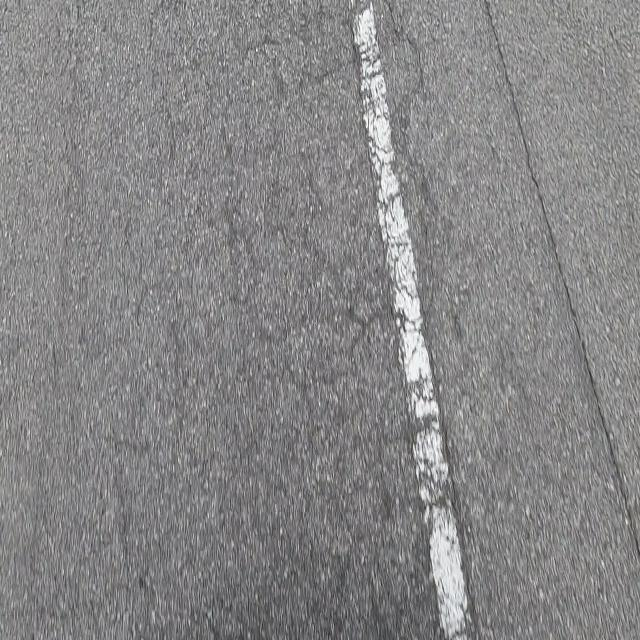Retak-Memanjang: (483, 1, 640, 577)
